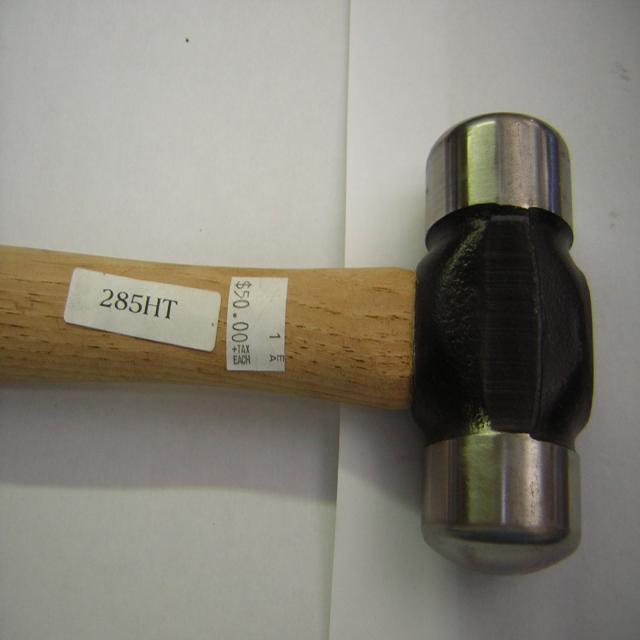hammer: (14, 94, 604, 586)
